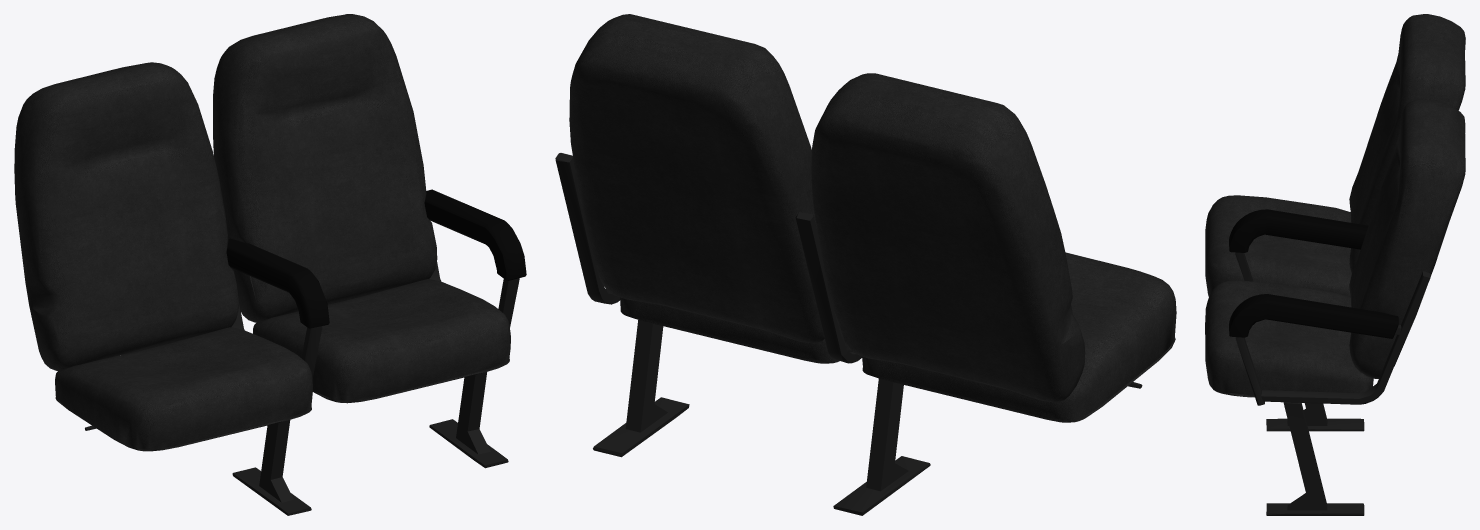
File: Chairs 4.FBX
The picture shows the model from 3 angles, left to right: view 1: azimuth 30°, elevation 25°; view 2: azimuth 150°, elevation 25°; view 3: azimuth 270°, elevation 25°; orthographic projection. The views are drawn at different scales.
Parts seen in each view (by area): view 1: chairs 4; view 2: chairs 4; view 3: chairs 4.
Part boxes in pixels (<box>): chairs 4: <box>14,14,526,515</box>; chairs 4: <box>555,14,1176,515</box>; chairs 4: <box>1205,14,1465,515</box>.
Bounding box in the file's own units: 98.46 × 90.94 × 61.86.
3 materials, 1 textured.
